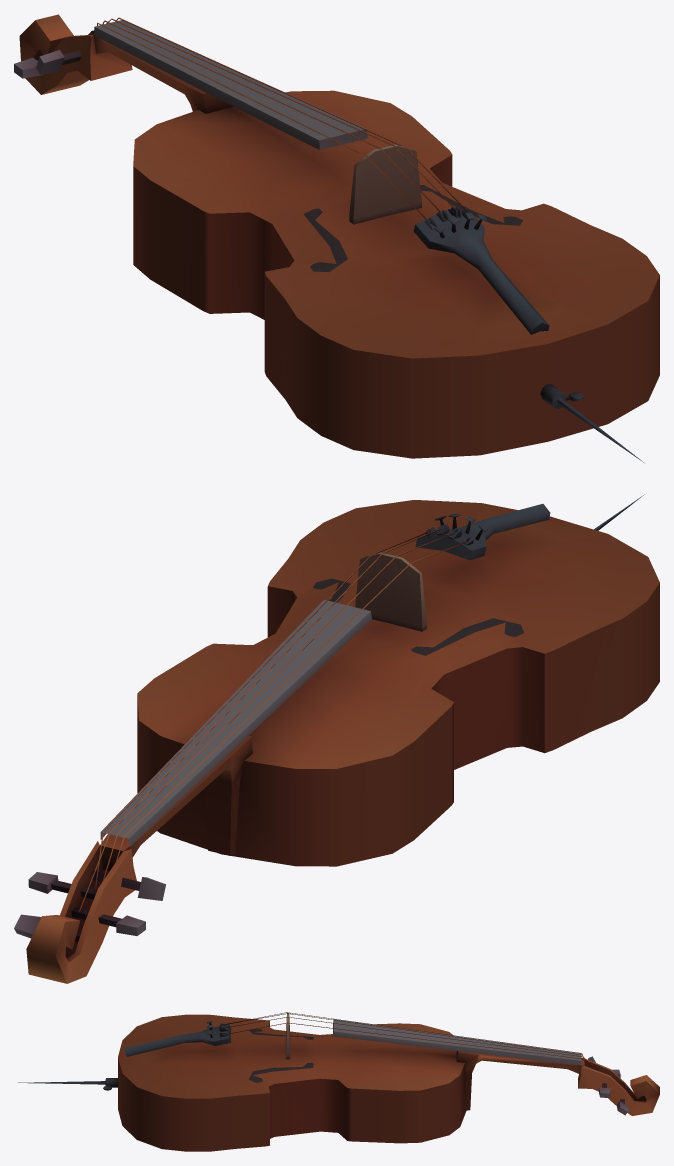
3 views of the same model, one above another, from view 1: azimuth 30°, elevation 25°; view 2: azimuth 150°, elevation 25°; view 3: azimuth 270°, elevation 25° (orthographic). The views are drawn at different scales.
Parts seen in each view (by area): view 1: Cello; view 2: Cello; view 3: Cello.
Boxes of the visible parts, x1,y1,x2,y2 form: Cello: (14, 14, 659, 462); Cello: (14, 494, 659, 983); Cello: (18, 1012, 659, 1151).
Size of the model in its own units: 0.1538 by 0.0851 by 0.5.
